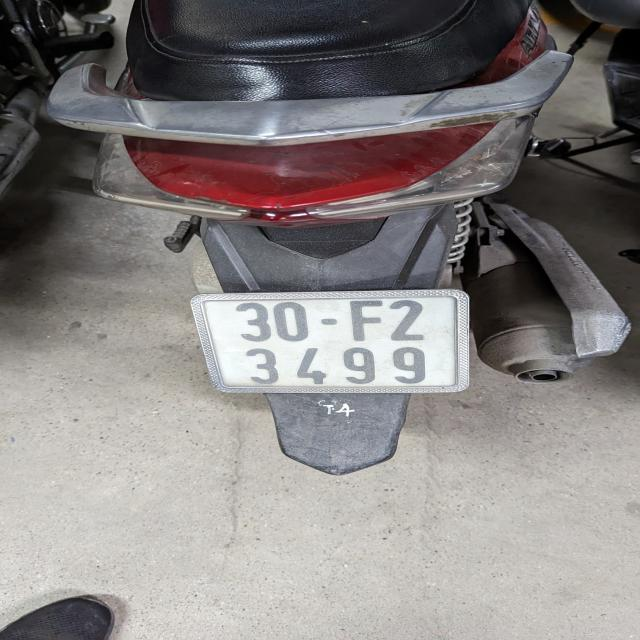license: (189, 287, 470, 394)
